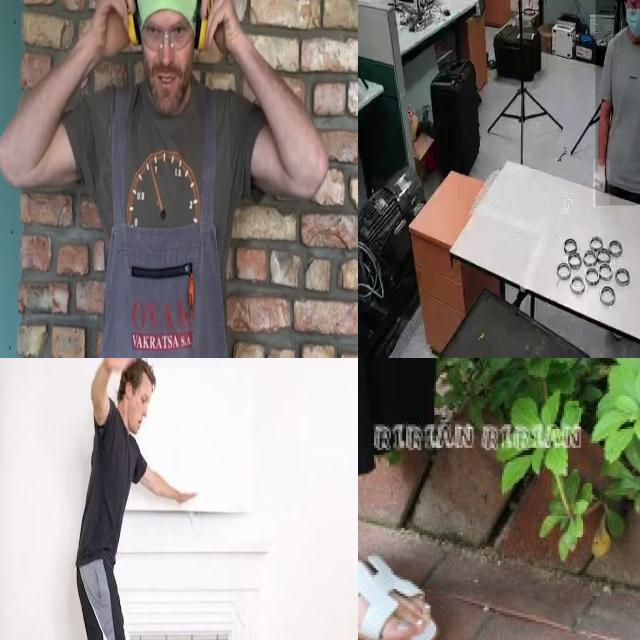Ear-protection: (118, 0, 221, 116)
No_Ear-Protection: (120, 374, 135, 403)
Sandals: (358, 522, 444, 640)
face_mask: (620, 0, 640, 39)
face_nomask: (133, 405, 151, 439)
hand_glove: (593, 159, 610, 208)
hand_noglove: (91, 358, 140, 382)
person: (0, 0, 332, 358), (69, 358, 199, 640), (595, 0, 640, 206)
